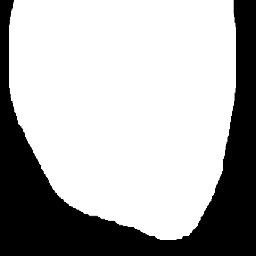mass: (15, 1, 232, 222)
